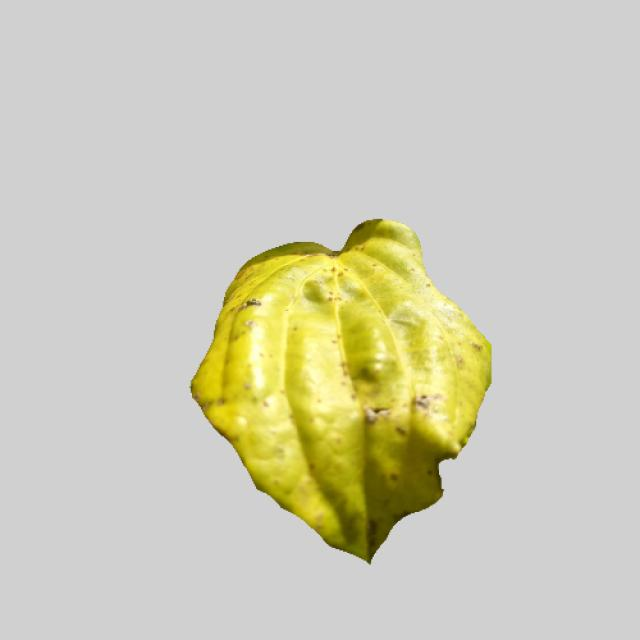yellow-mottle-virus: (179, 220, 490, 563)
